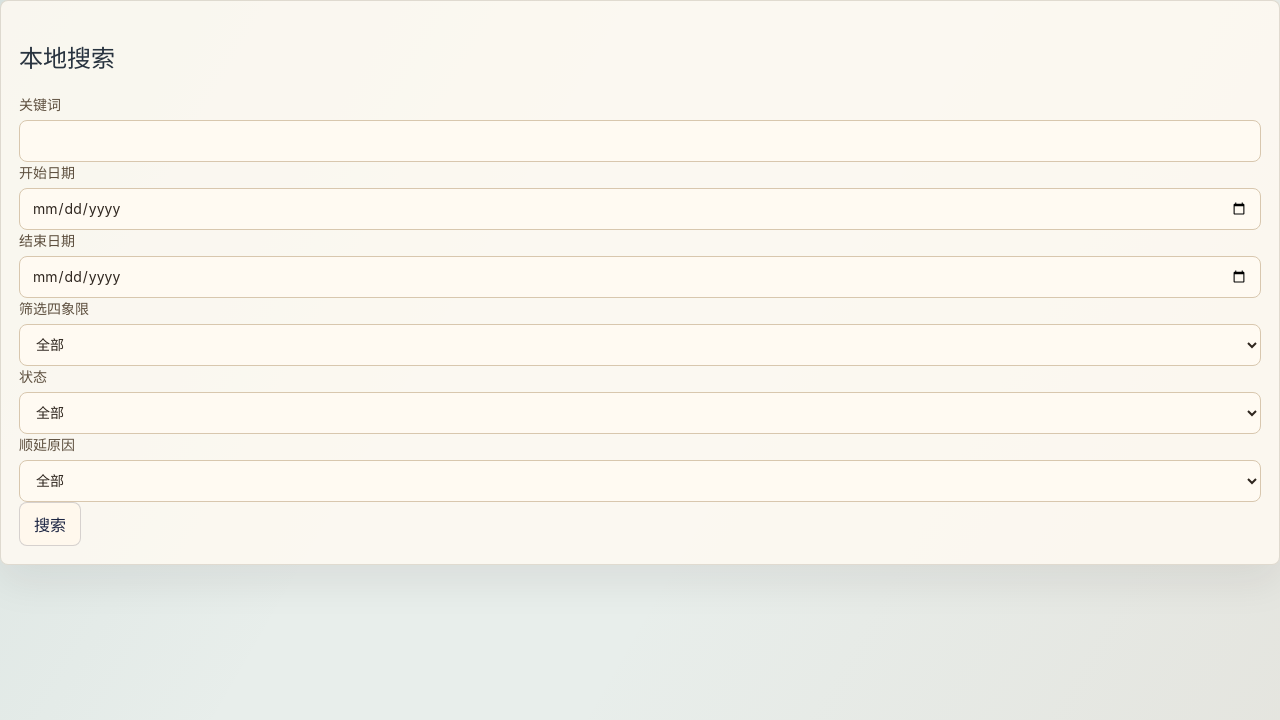
SearchPanel › submits local search filters and displays results
The width and height of the screenshot is (1280, 720).
Type "plan" into the field labelled "关键词". click: (640, 141)
box: [19, 120, 1261, 162]
Type "2026-06-01" into the date field labelled "开始日期". click: (640, 209)
box: [19, 188, 1261, 230]
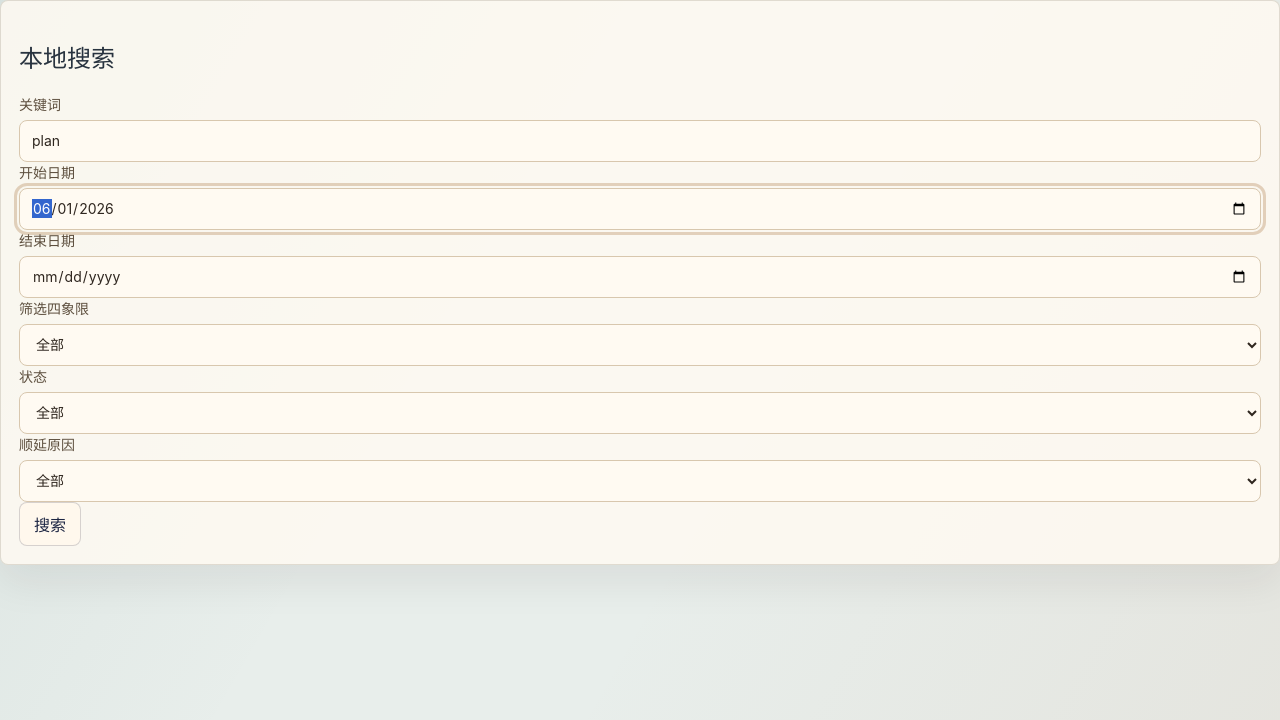
Type "2026-06-30" into the date field labelled "结束日期". click: (640, 277)
box: [19, 256, 1261, 298]
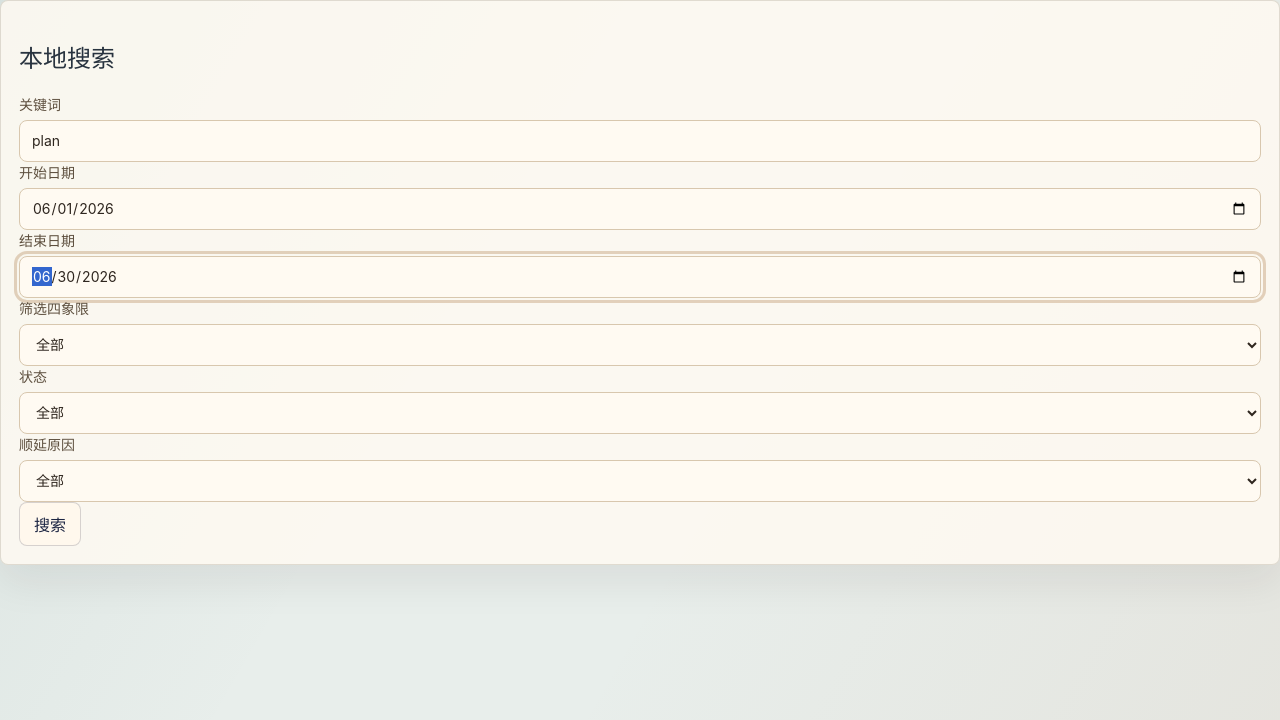
Select "重要且紧急" in the dropdown labelled "筛选四象限". click: (640, 345)
box: [19, 324, 1261, 366]
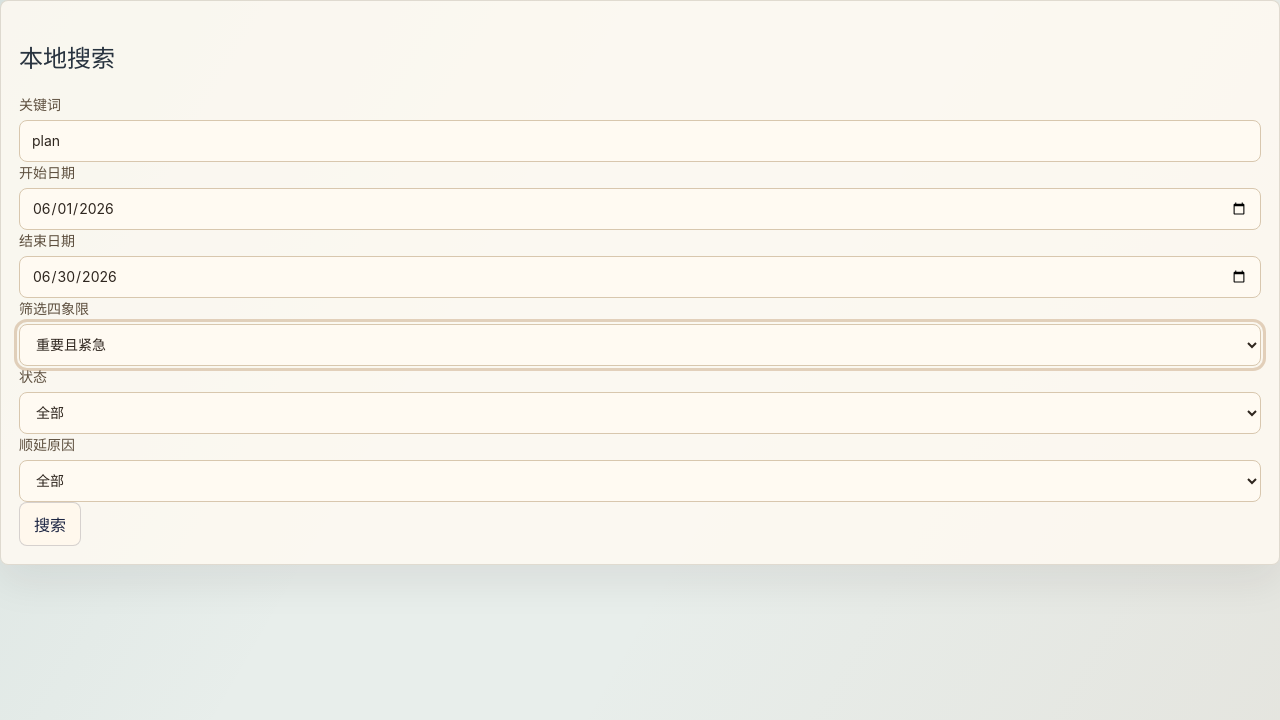
Select "已完成" in the dropdown labelled "状态". click: (640, 413)
box: [19, 392, 1261, 434]
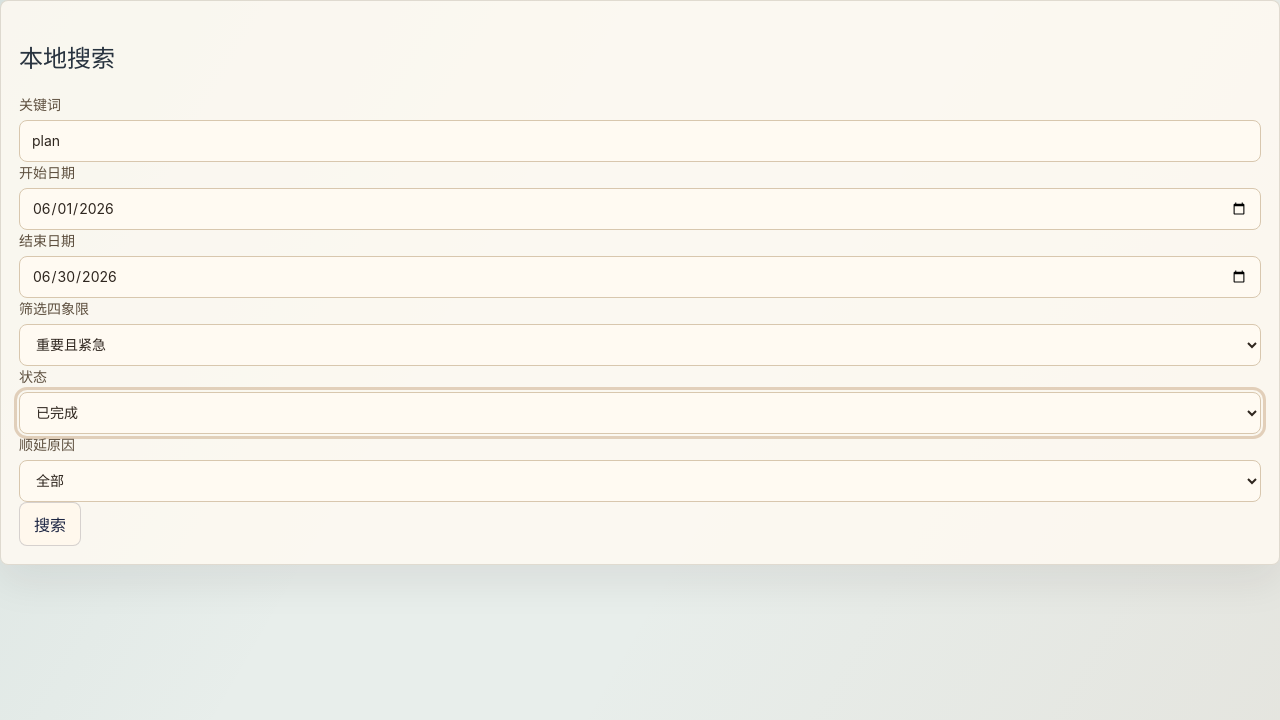
Select "状态不足" in the dropdown labelled "顺延原因". click: (640, 481)
box: [19, 460, 1261, 502]
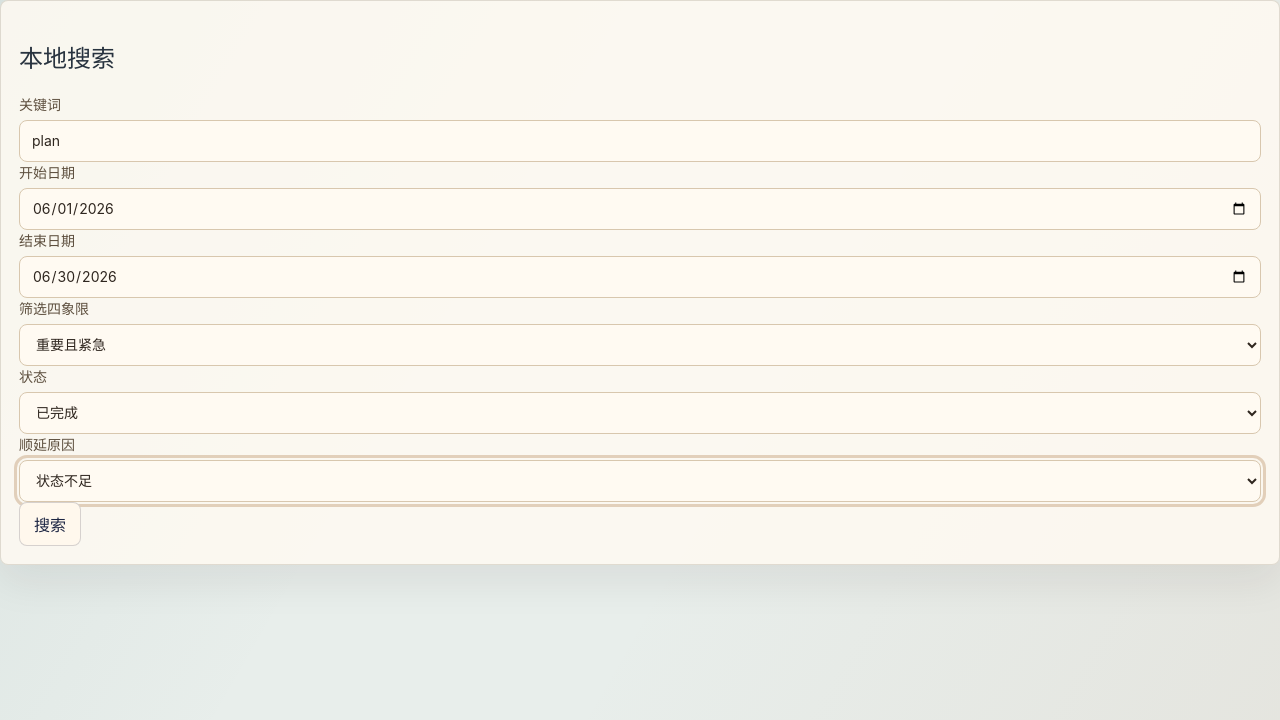
Click the button "搜索". click: (50, 524)
box: [19, 502, 81, 546]
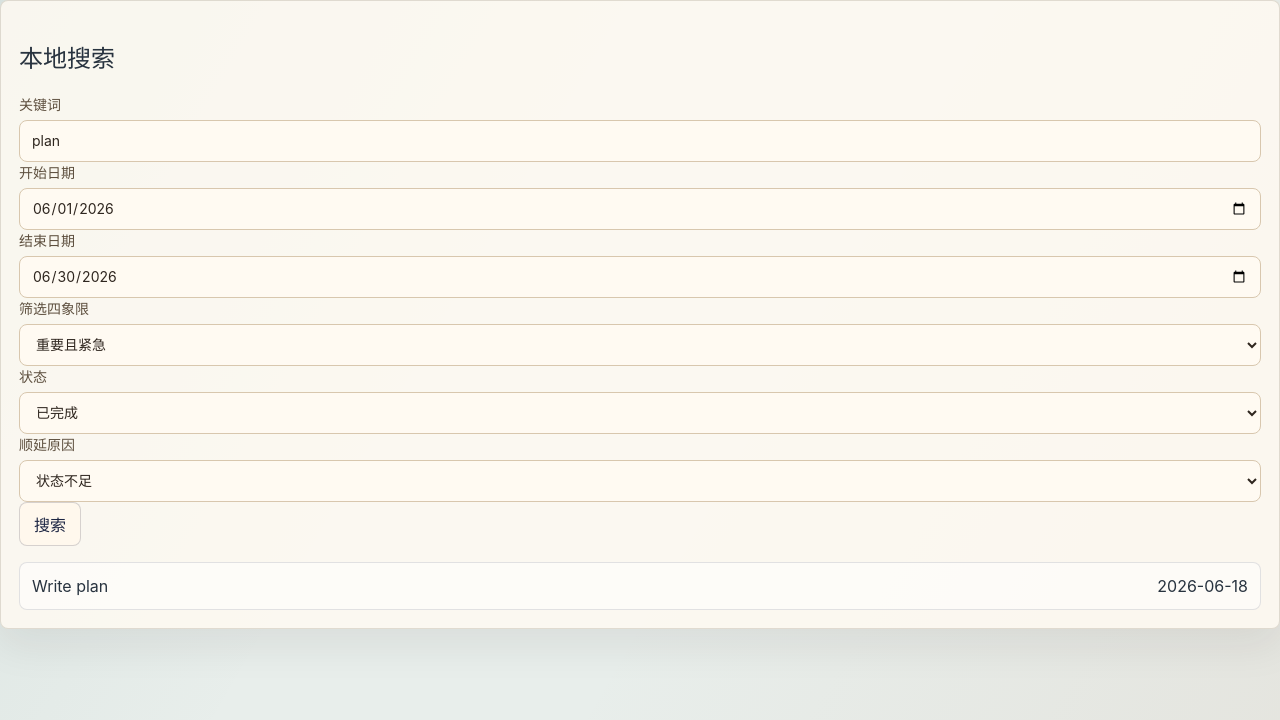
Expected: the text "Write plan" is shown, [32, 576, 108, 596]
Expected: the text "2026-06-18" is shown, [1157, 576, 1248, 596]
